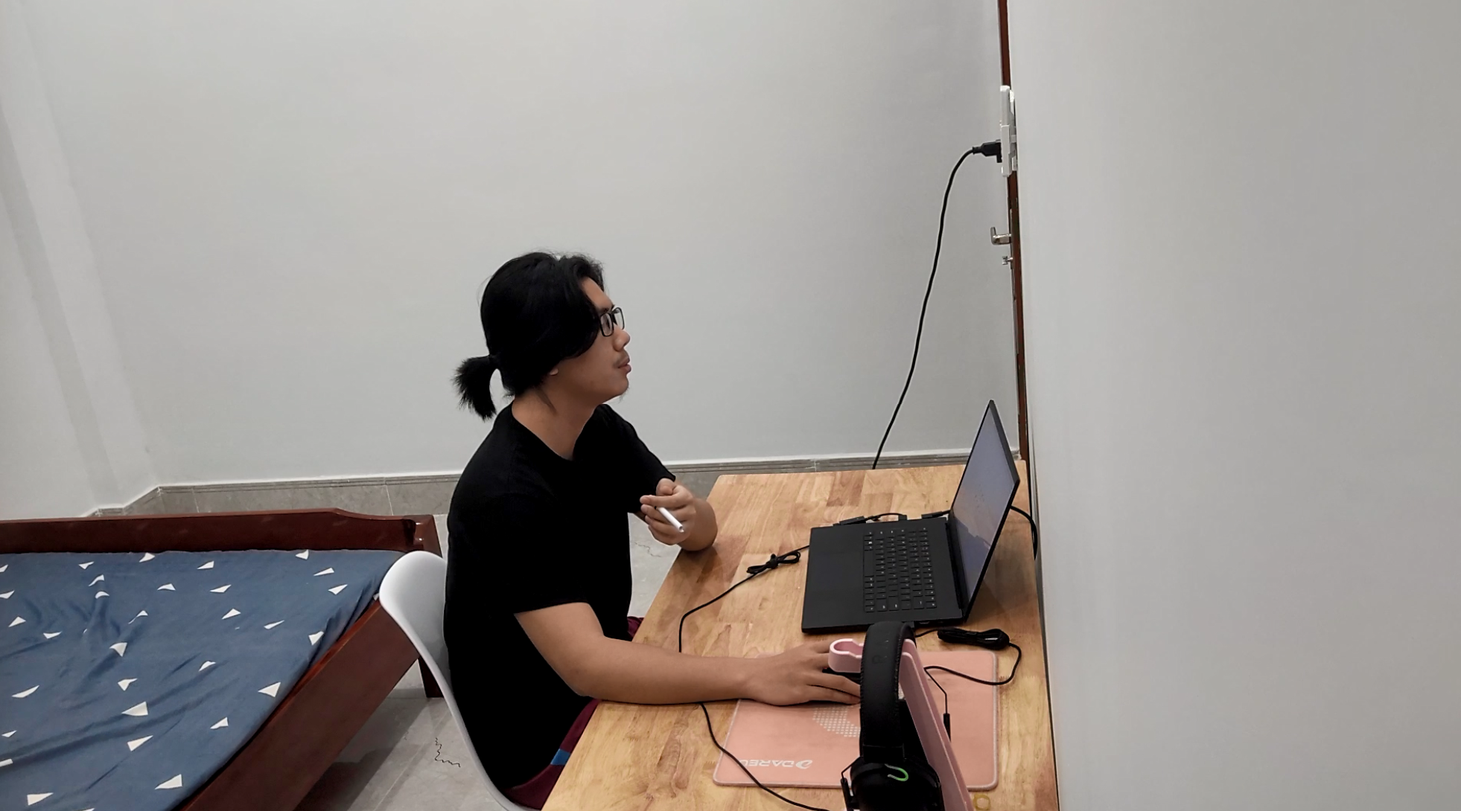cigarette: (658, 500, 689, 533)
person: (416, 230, 724, 796)
